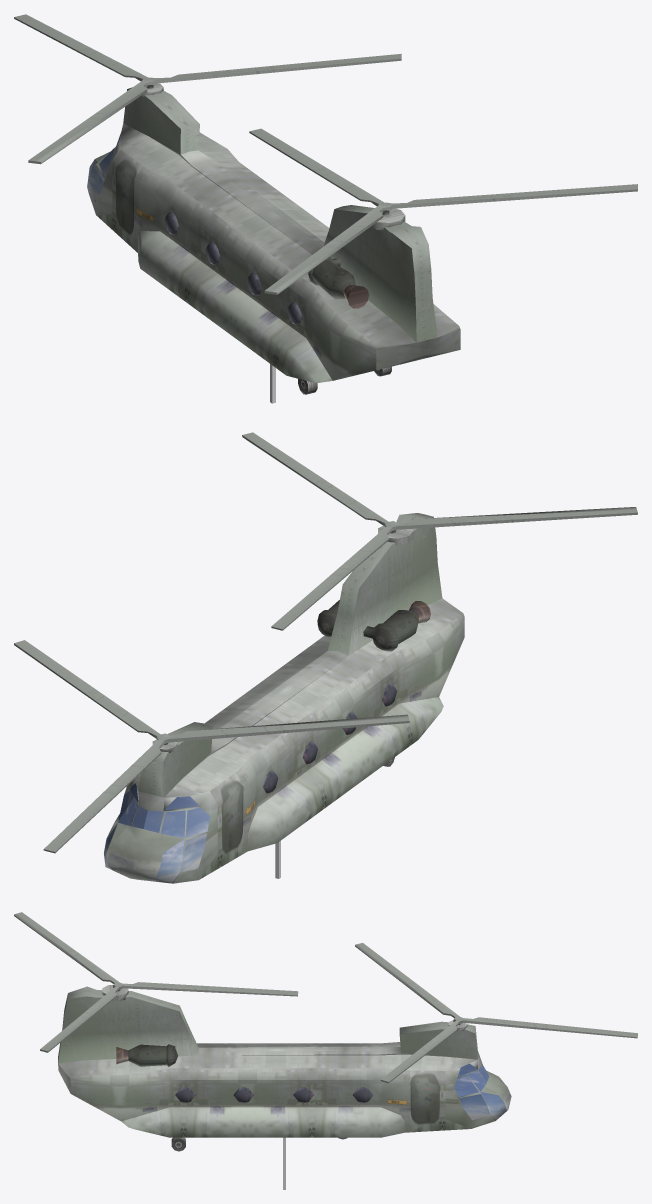
The model's file is chinook.glb.
3 views of the same model, one above another, from view 1: azimuth 30°, elevation 25°; view 2: azimuth 150°, elevation 25°; view 3: azimuth 270°, elevation 25° (orthographic). The views are drawn at different scales.
Parts seen in each view (by area): view 1: helicopter_body, rotor1, rotor2; view 2: helicopter_body, rotor2, rotor1; view 3: helicopter_body, rotor1, rotor2.
Boxes of the visible parts, x1,y1,x2,y2 form: helicopter_body: (87,83,460,394); rotor1: (249,128,637,294); rotor2: (14,14,401,164); helicopter_body: (104,513,464,883); rotor2: (14,640,409,853); rotor1: (242,432,637,630); helicopter_body: (58,985,511,1151); rotor1: (14,912,298,1052); rotor2: (355,943,637,1083).
Size of the model in its own units: 10.68 by 7.6 by 20.42.
1 material, 1 textured.
